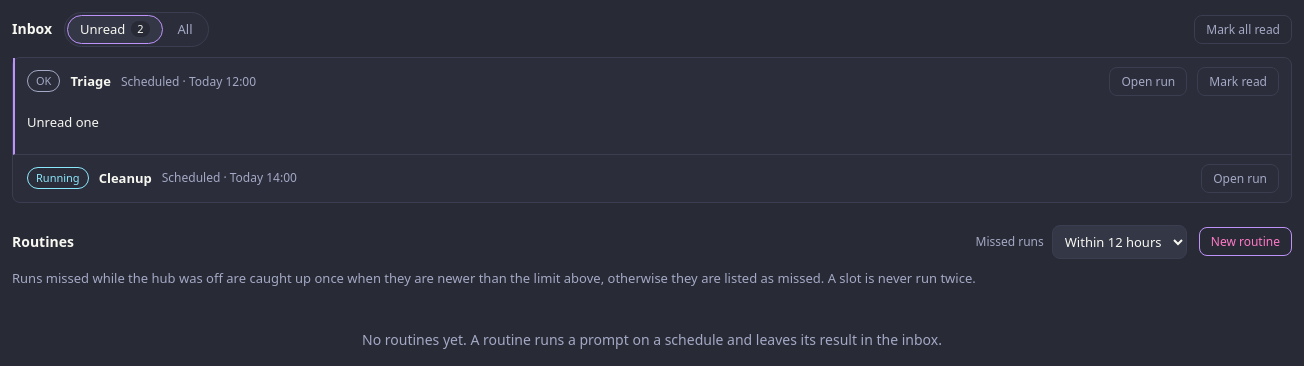
Scenario: opening an unread result marks it read, opens the task and tells the hub
The width and height of the screenshot is (1304, 366).
Expected: the text "Triage" is shown, [70,72,111,91]
Click the button "Open run" in the row of "Today 12:00": (1148, 81) [1109,67,1187,96]
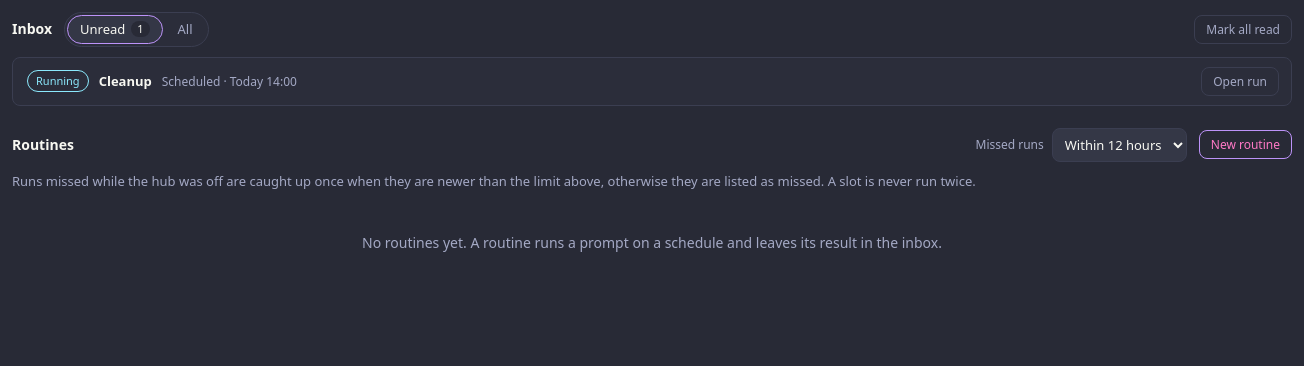
Expected: the button "Unread 1" is shown, [67,15,163,44]
